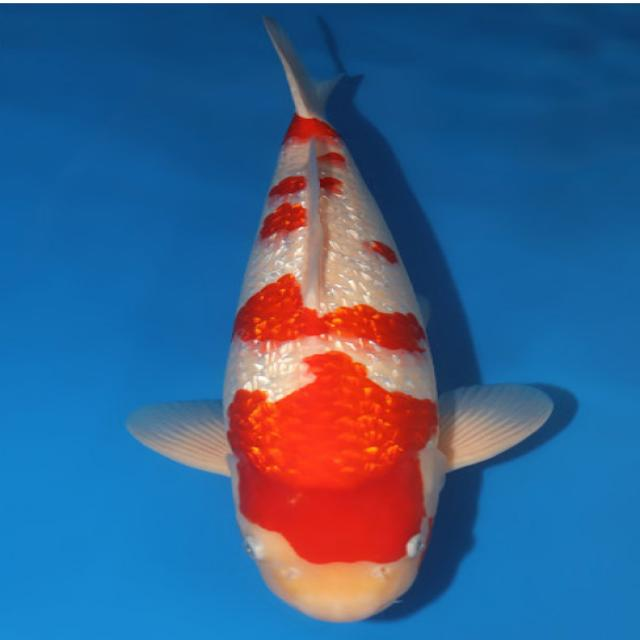Kohaku: (124, 14, 554, 623)
